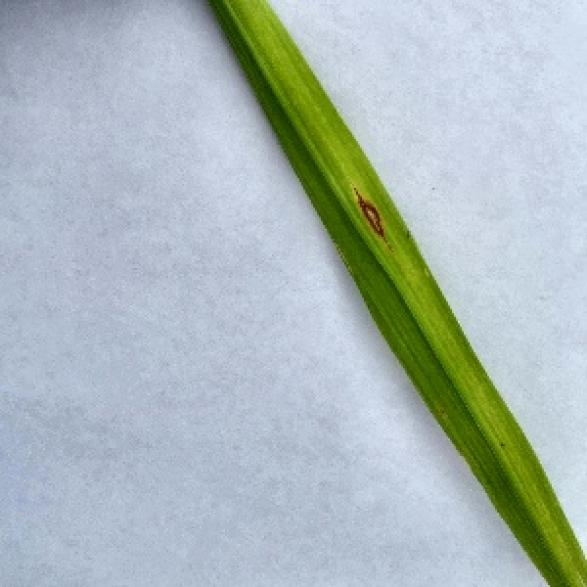Leaf_smut: (333, 174, 411, 258)
